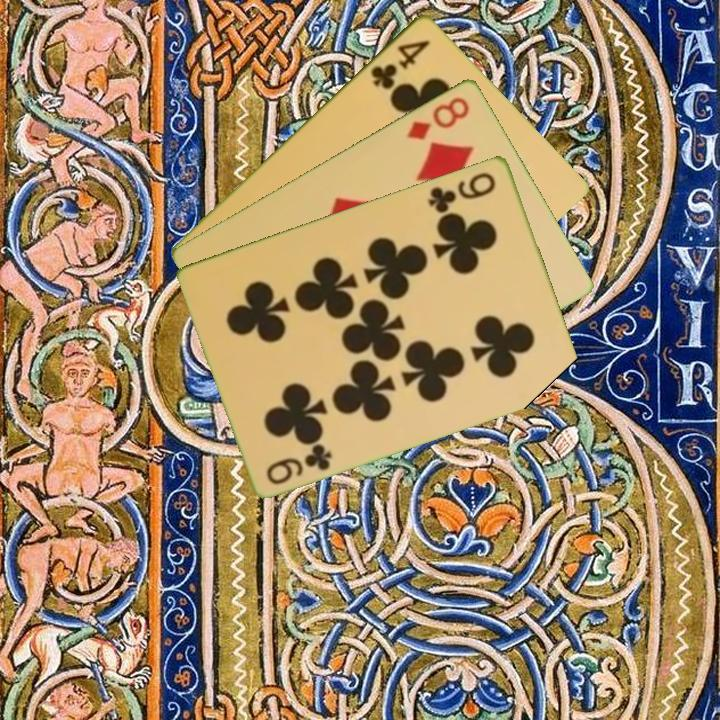4c: (366, 35, 433, 92)
8d: (403, 92, 473, 143)
9c: (425, 168, 499, 216), (263, 439, 335, 487)
